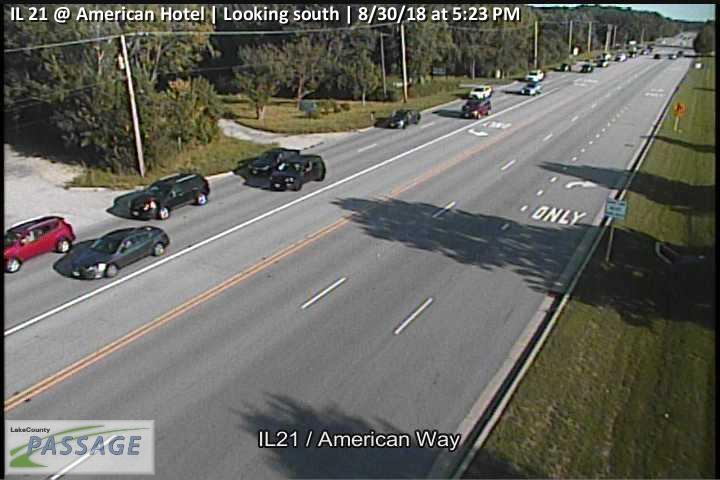SUV: (127, 171, 213, 220), (1, 216, 74, 273)
Sedan: (72, 226, 169, 281), (270, 154, 326, 191), (246, 144, 300, 176), (388, 108, 419, 128), (462, 99, 492, 118), (468, 84, 493, 99), (520, 82, 543, 94), (524, 69, 544, 81)
